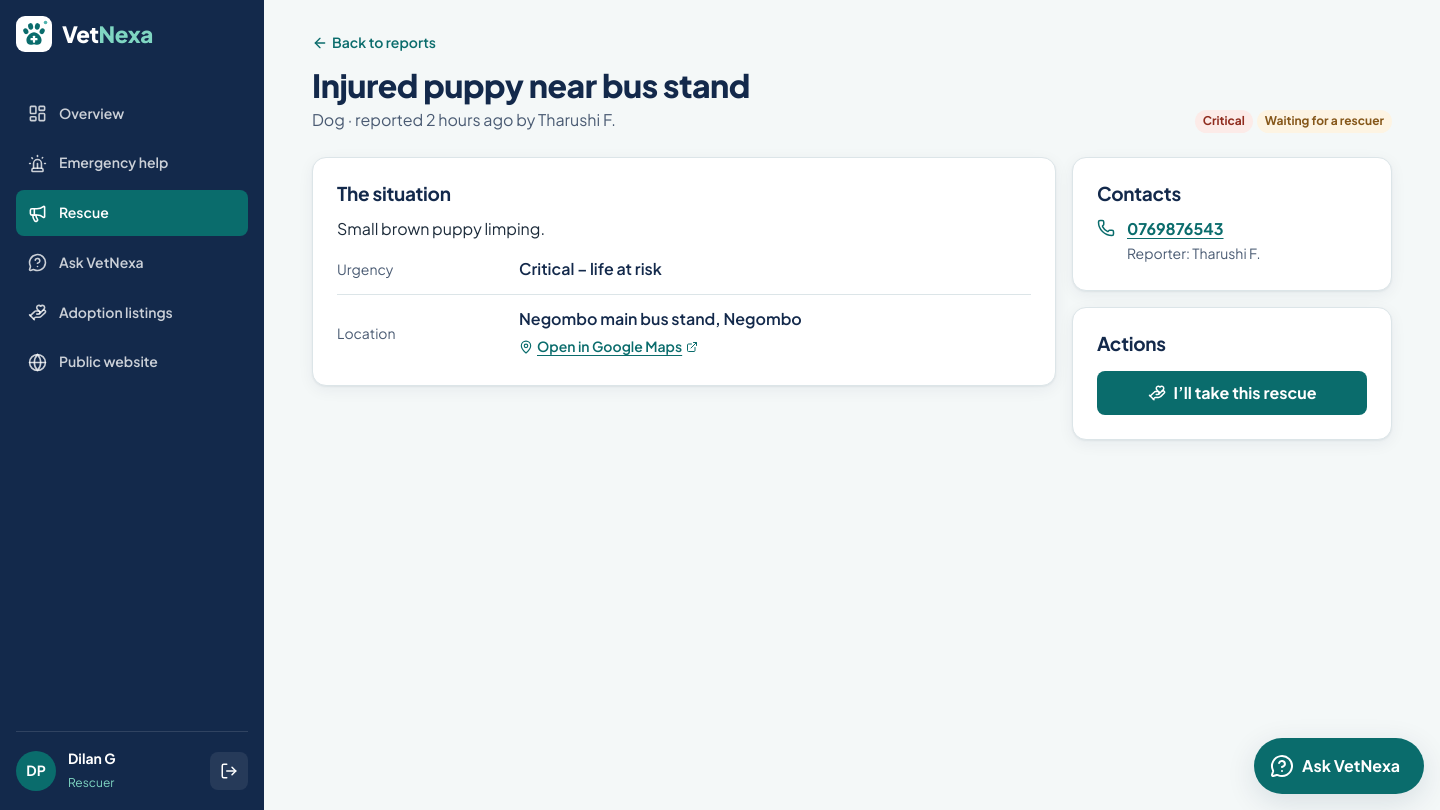
Test: rescue › shows rescuers the board with urgency and lets them take on a report
Check: the text "Critical" is shown, box 1195,110 -> 1253,133
Check: the text "Dog · reported 2 hours ago by Tharushi F." is shown, box 312,109 -> 616,130
Click the button "I’ll take this rescue". click: [1232, 393]
box: 1097,371 -> 1367,415
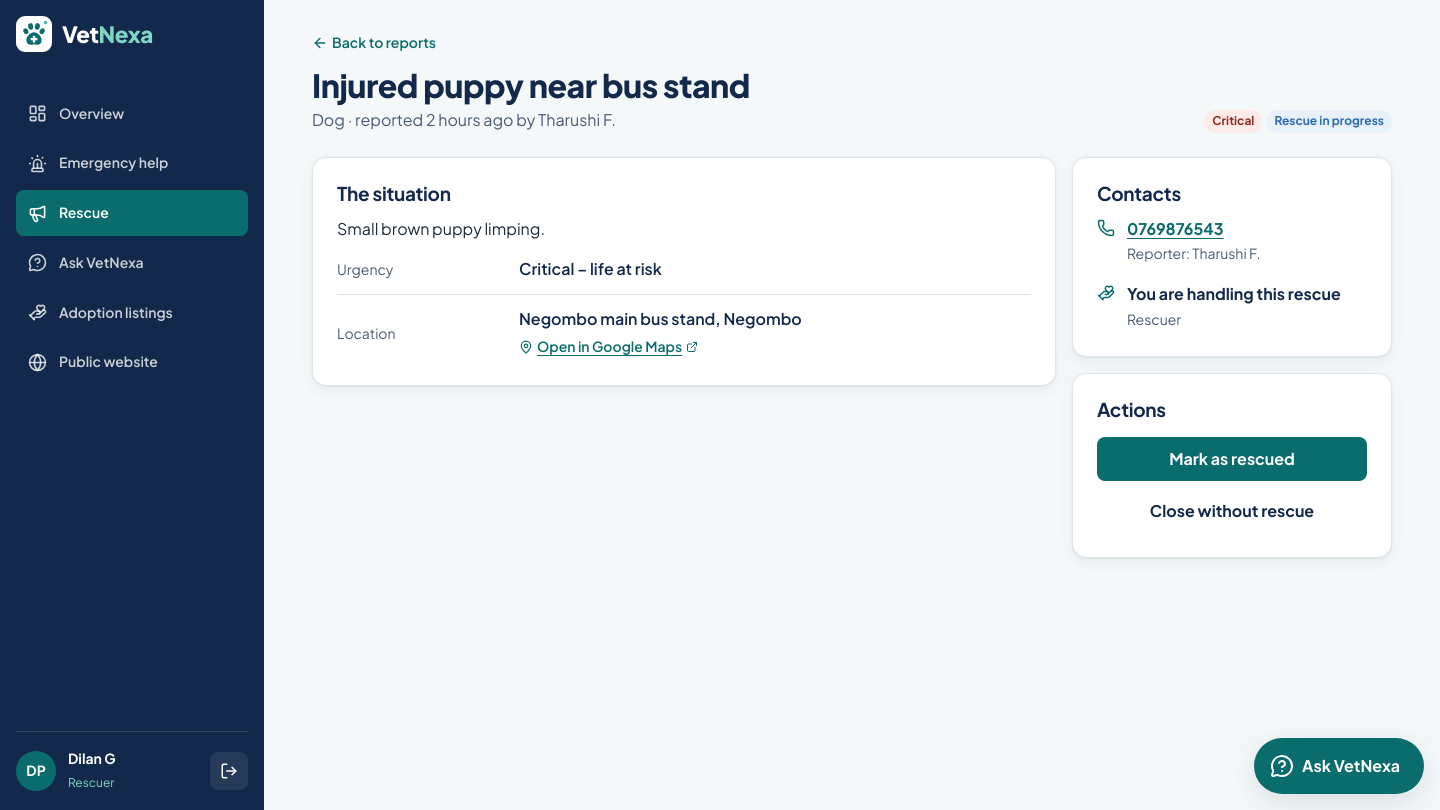
Check: the button "Mark as rescued" is shown, box 1097,437 -> 1367,481
Check: the text "You are handling this rescue" is shown, box 1127,282 -> 1341,307
